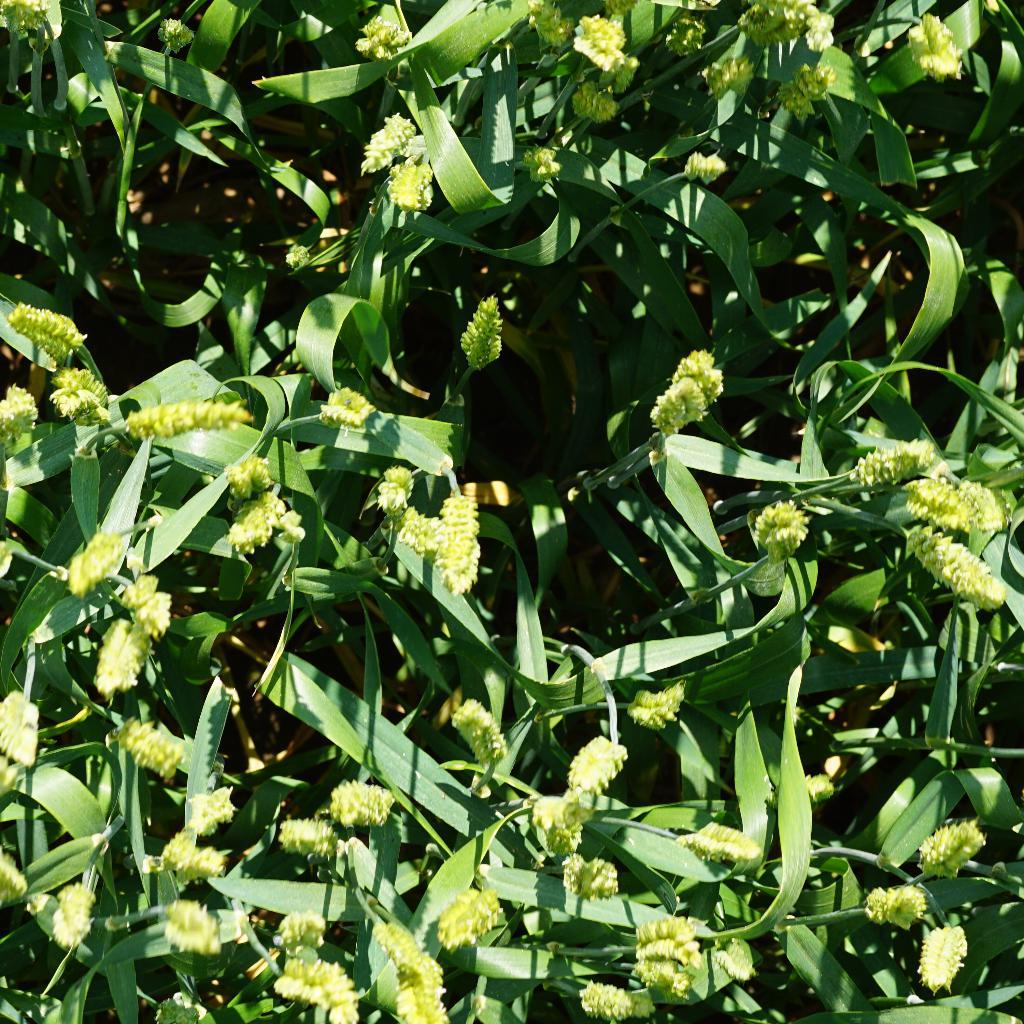0-0: (63, 600, 169, 699), (901, 522, 1024, 604), (885, 470, 1024, 533), (647, 339, 728, 443), (897, 0, 974, 103), (832, 419, 946, 486), (114, 391, 262, 441), (271, 948, 363, 1024), (440, 292, 519, 378), (453, 687, 530, 774), (676, 813, 773, 882), (426, 870, 511, 948), (322, 758, 406, 832), (33, 866, 107, 949), (912, 901, 974, 997), (103, 714, 195, 778), (434, 481, 488, 590), (0, 303, 93, 366), (373, 912, 443, 993), (915, 810, 989, 886), (0, 680, 62, 768), (100, 567, 172, 642), (56, 514, 122, 591), (546, 841, 627, 903), (156, 826, 247, 881), (154, 897, 232, 961), (275, 803, 346, 873), (352, 0, 417, 75), (298, 378, 389, 429), (628, 676, 699, 740), (49, 369, 119, 433), (744, 503, 817, 564), (258, 893, 337, 949), (381, 150, 455, 209), (574, 722, 632, 795), (561, 970, 646, 1019), (781, 59, 843, 126), (352, 100, 415, 165), (860, 873, 938, 925), (228, 496, 295, 556), (626, 960, 710, 1006), (739, 0, 833, 41), (564, 79, 639, 130), (179, 784, 258, 832), (657, 14, 729, 66), (631, 916, 701, 968), (533, 793, 587, 858), (387, 970, 451, 1024), (672, 144, 743, 190), (578, 19, 632, 75), (799, 758, 851, 815), (0, 844, 38, 914), (381, 452, 426, 511), (508, 133, 564, 180), (714, 52, 763, 105), (223, 453, 277, 500), (520, 0, 567, 51), (144, 4, 202, 45), (1, 1, 54, 43), (0, 381, 40, 436), (154, 989, 212, 1023), (404, 508, 443, 552), (600, 0, 650, 19)
